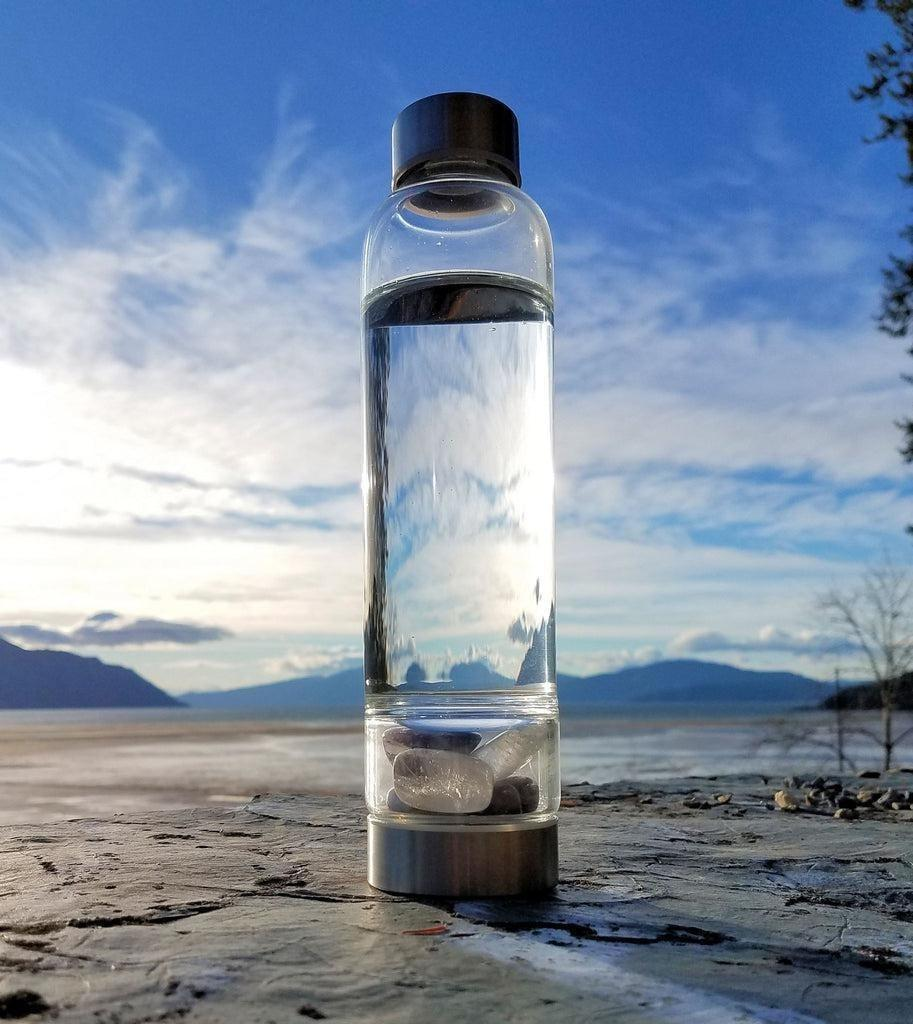gym bottle: (354, 88, 566, 906)
